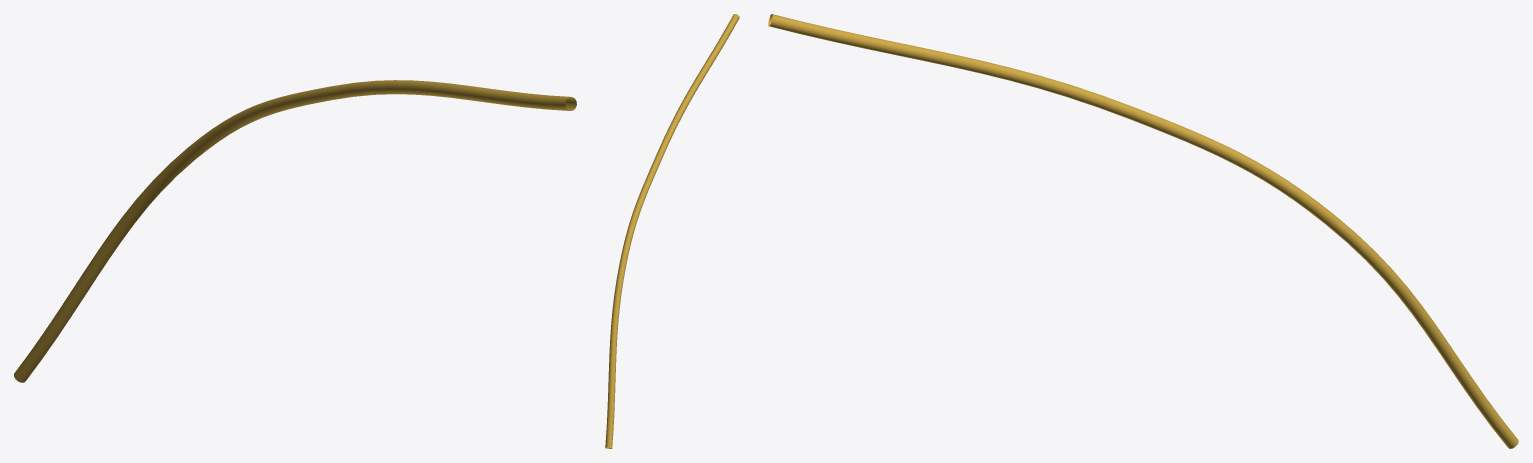
The picture shows the model from 3 angles, left to right: view 1: azimuth 30°, elevation 25°; view 2: azimuth 150°, elevation 25°; view 3: azimuth 270°, elevation 25°; orthographic projection. The views are drawn at different scales.
Visible parts, largest first — view 1: 右侧锁骨下神经; view 2: 右侧锁骨下神经; view 3: 右侧锁骨下神经.
Part boxes in pixels (x1,y1,x2,y2): 右侧锁骨下神经: [14, 80, 576, 382]; 右侧锁骨下神经: [605, 14, 739, 448]; 右侧锁骨下神经: [768, 14, 1518, 448].
Size of the model in its own units: 0.0191 by 0.0621 by 0.0846.
